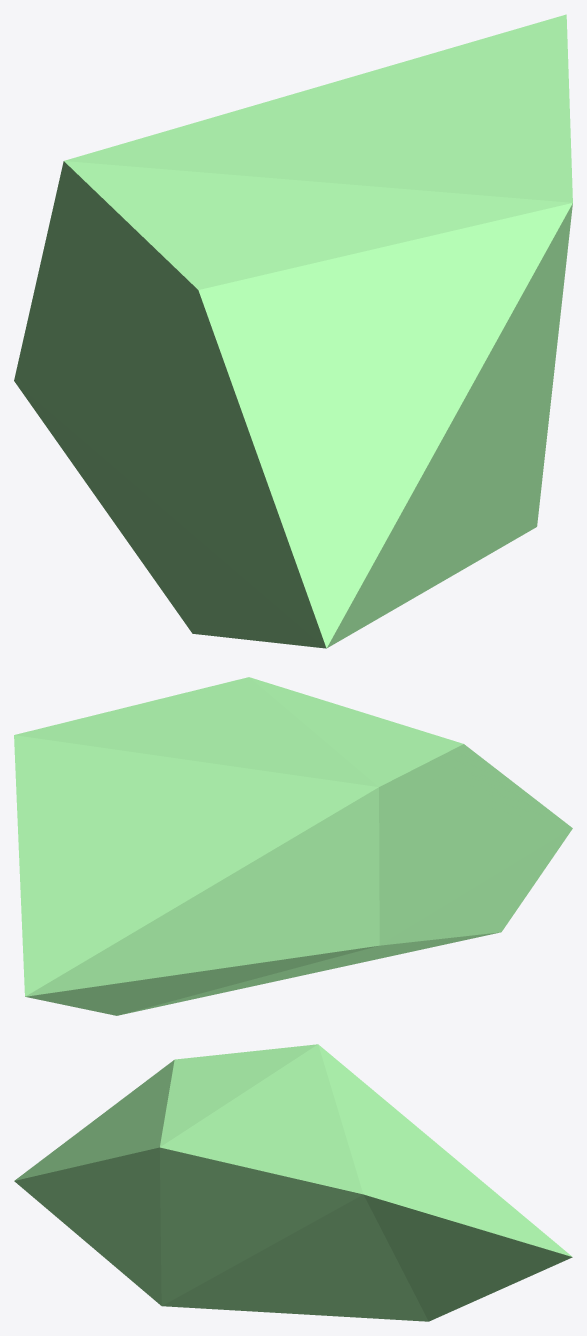
File: UMIRobot_UMIRobot_link_5_convex_coll_28.dae
The picture shows the model from 3 angles, top to bottom: view 1: azimuth 30°, elevation 25°; view 2: azimuth 150°, elevation 25°; view 3: azimuth 270°, elevation 25°; orthographic projection. The views are drawn at different scales.
Parts seen in each view (by area): view 1: node; view 2: node; view 3: node.
Boxes of the visible parts, bbox=[...] form: node: bbox=[14, 14, 572, 648]; node: bbox=[14, 677, 572, 1015]; node: bbox=[14, 1044, 572, 1321].
Size of the model in its own units: 0.00309 by 0.00188 by 0.00488.
